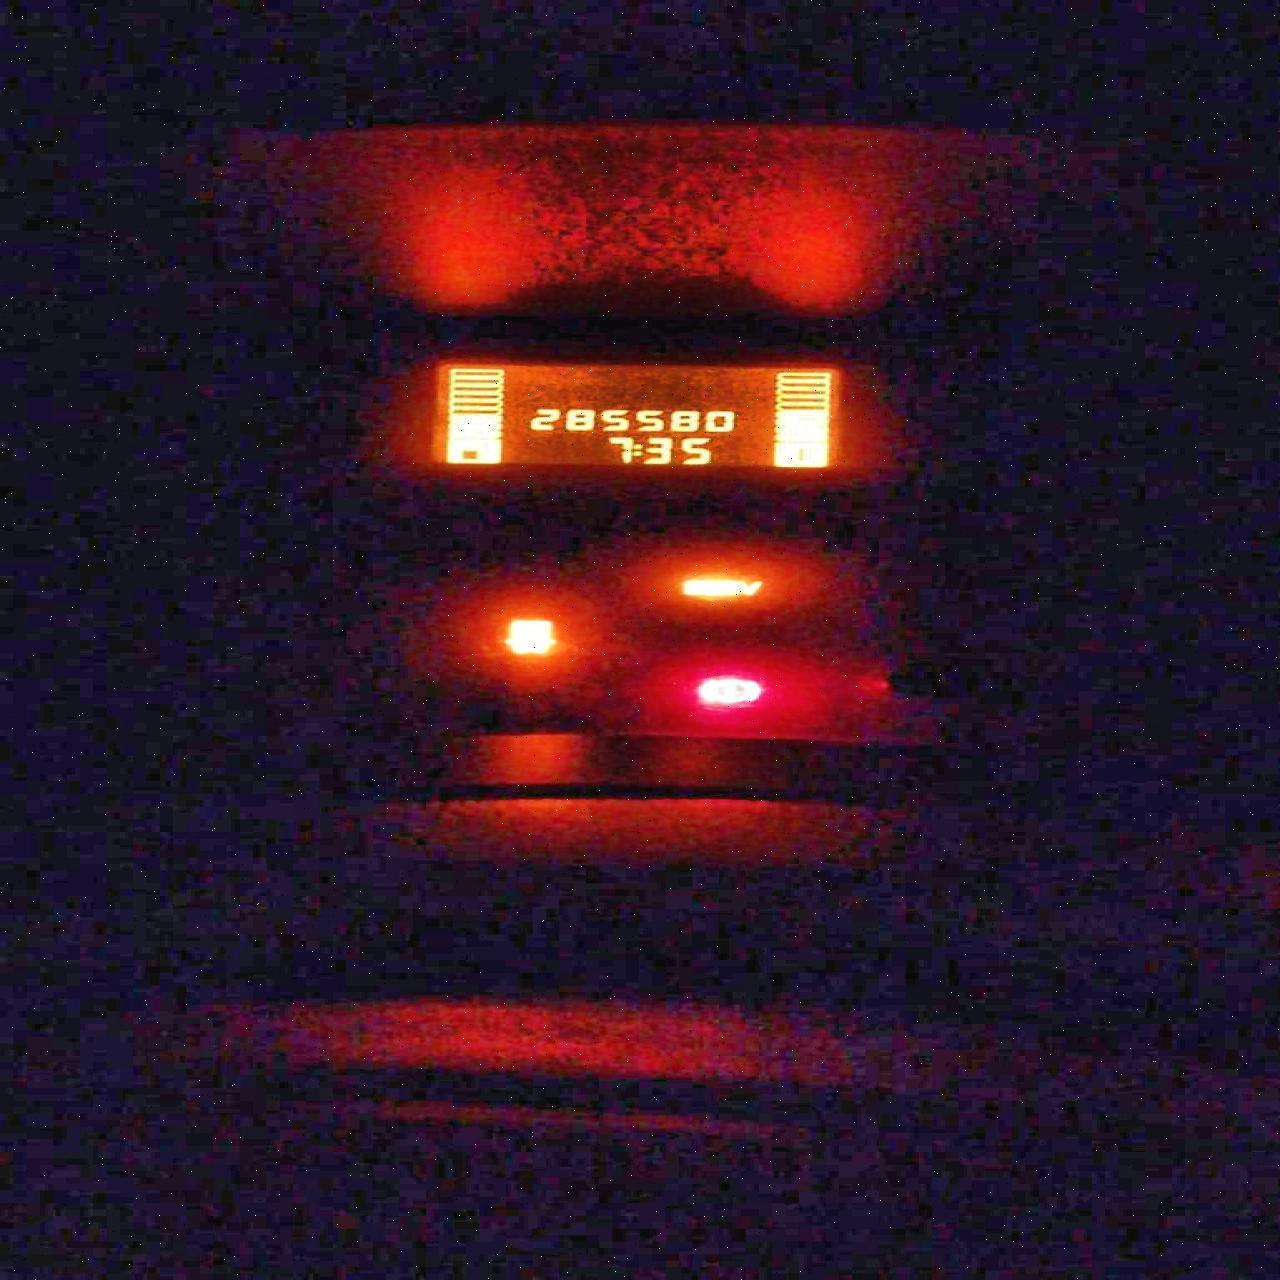0: (702, 410, 734, 432)
2: (528, 408, 559, 430)
3: (642, 436, 672, 464)
5: (679, 437, 709, 465), (634, 409, 664, 431), (599, 409, 629, 430)
7: (606, 436, 634, 464)
8: (563, 408, 594, 430), (668, 410, 699, 431)
X: (631, 443, 642, 456)
odometer: (426, 361, 846, 470)
